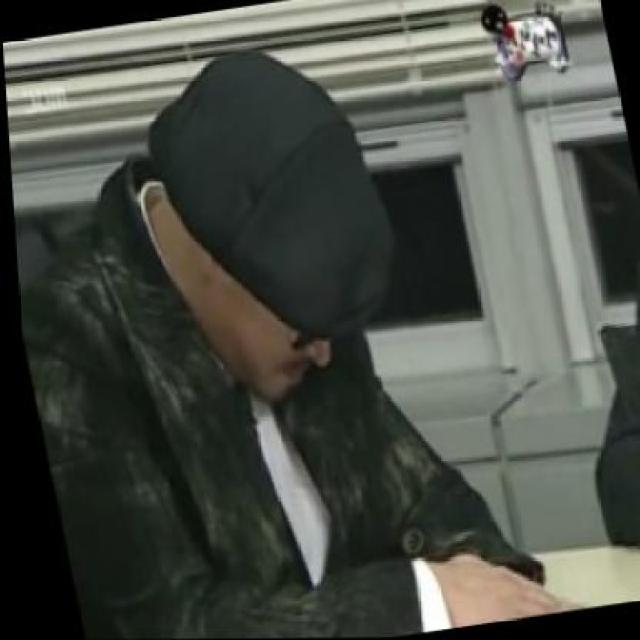hat: (125, 34, 418, 369)
